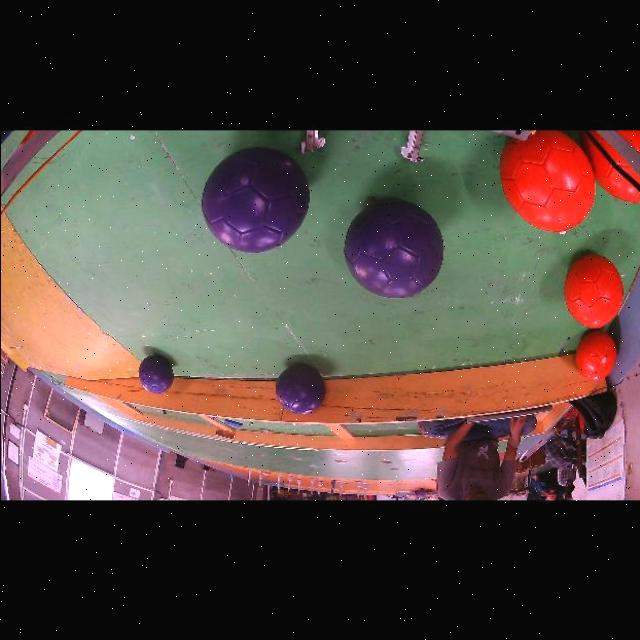P: (200, 148, 308, 252), (343, 201, 442, 297), (275, 364, 325, 414), (137, 355, 173, 394)
R: (499, 131, 594, 232), (578, 130, 640, 203), (563, 255, 622, 328), (590, 130, 640, 185), (576, 329, 616, 381), (617, 130, 640, 154)
